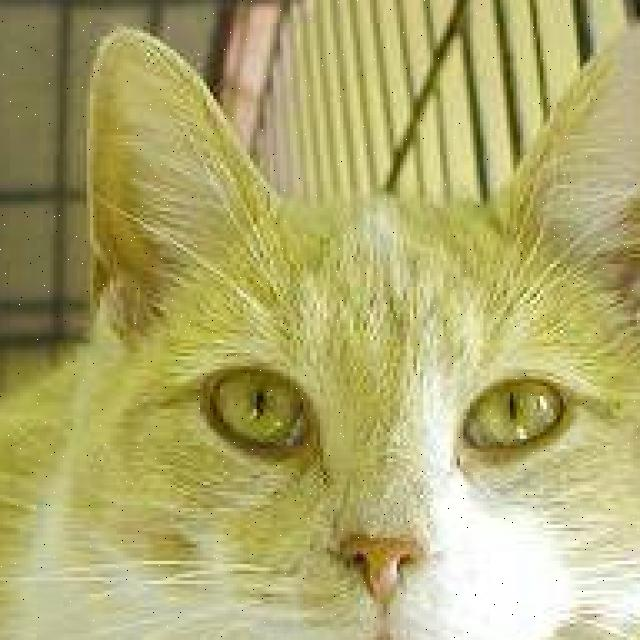Cat: (73, 33, 640, 640)
